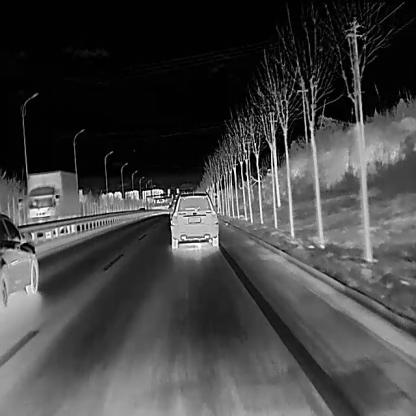car: (0, 212, 38, 307), (169, 189, 219, 251)
truck: (24, 169, 78, 241)
